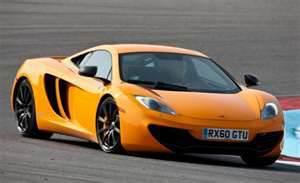Car: (7, 34, 289, 177)
